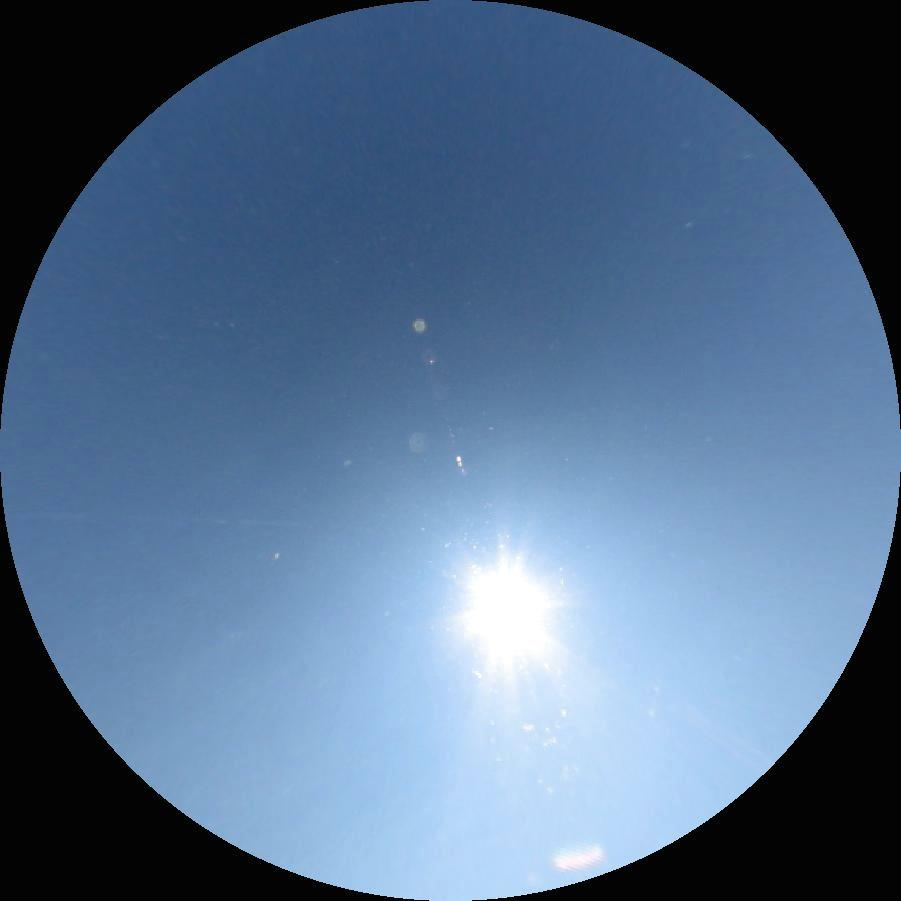sun: (452, 546, 563, 679)
